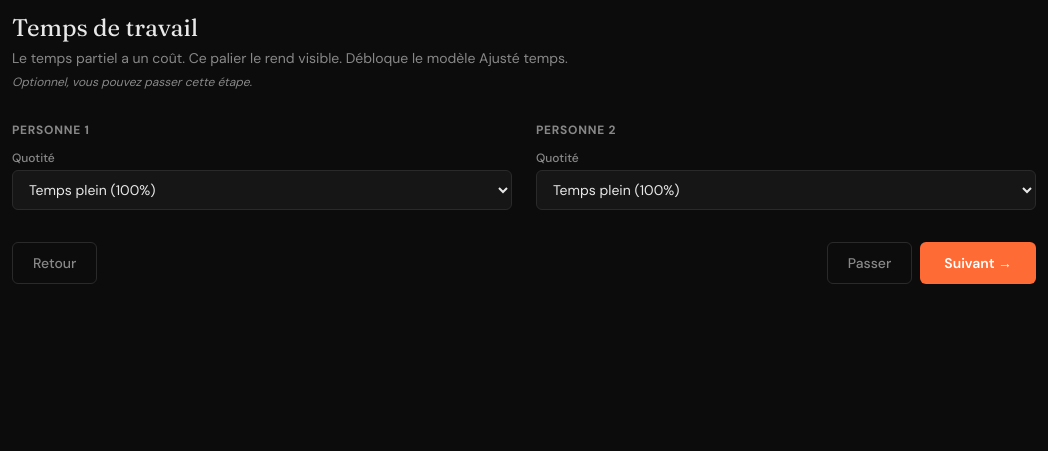
Test case: Tier3WorkTime › full-time salary field IS shown when P1 quota < 100%
Change P1 quota select to "80%"
Select "80%" in the dropdown labelled "Quotité" at (262, 190), box [12,170,512,210]
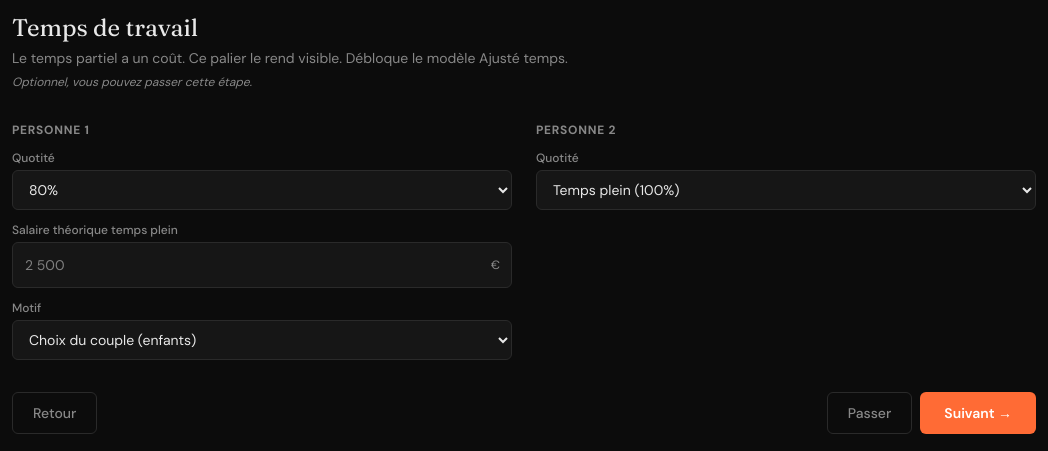
Expected: the field labelled "Salaire théorique temps plein" is shown, [12,242,512,288]
